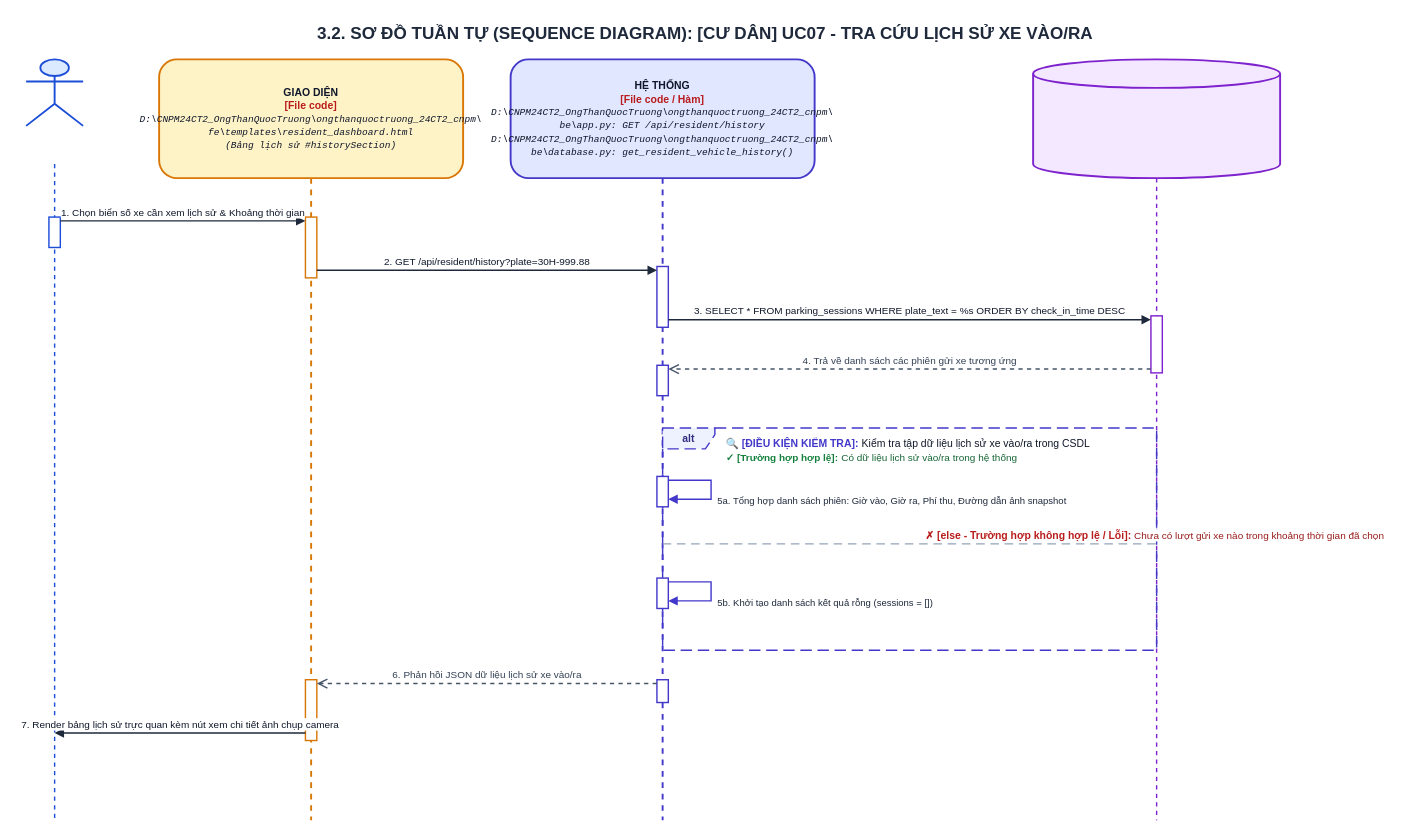
Some shapes in this 1410 by 838 pixel diagram are drawn without their labels. The centre of each missing label's shape, as x and y in pixels:
CƠ SỞ DỮ LIỆU [db / Bảng] HTTT_QuanLyBaiXe_AI / parking_sessions, lich_su_ra_vao: [1156,118]
TÁC NHÂN Cư Dân (Resident): [54,92]
